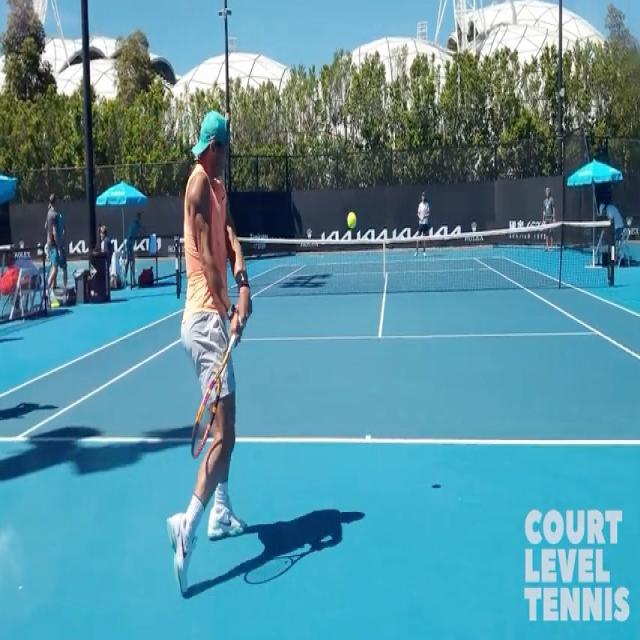backhand-stroke: (166, 103, 266, 601)
